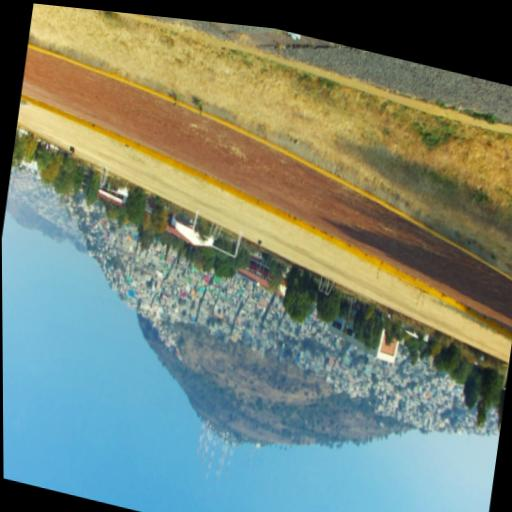drones: (283, 30, 303, 45)
